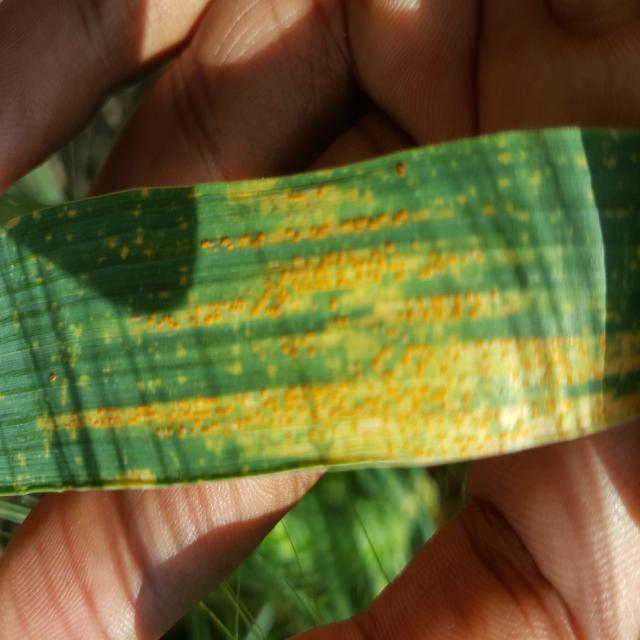wheat-yellowrust: (0, 126, 640, 495)
